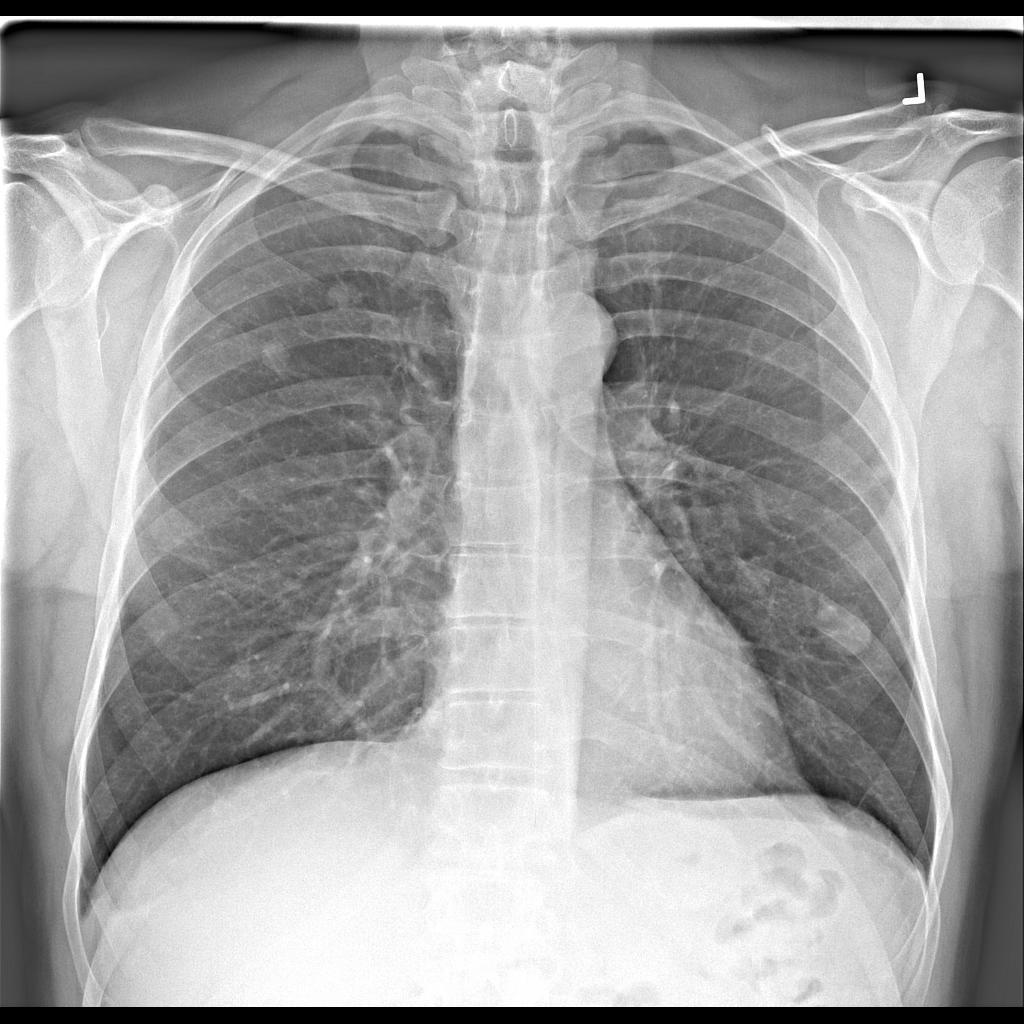Nodule: (719, 541, 786, 608), (812, 594, 879, 659), (316, 268, 372, 324)
